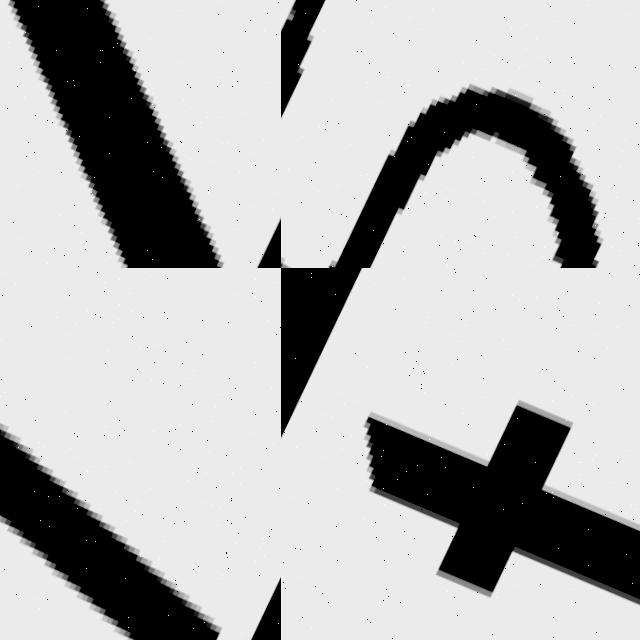5: (281, 0, 640, 268)
I: (0, 268, 281, 640)
T: (294, 298, 640, 640)
Z: (0, 0, 281, 268)
